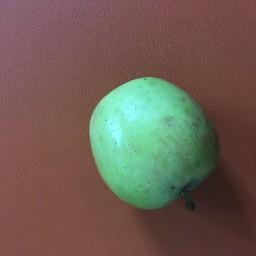Bad_apple: (84, 80, 222, 214)
